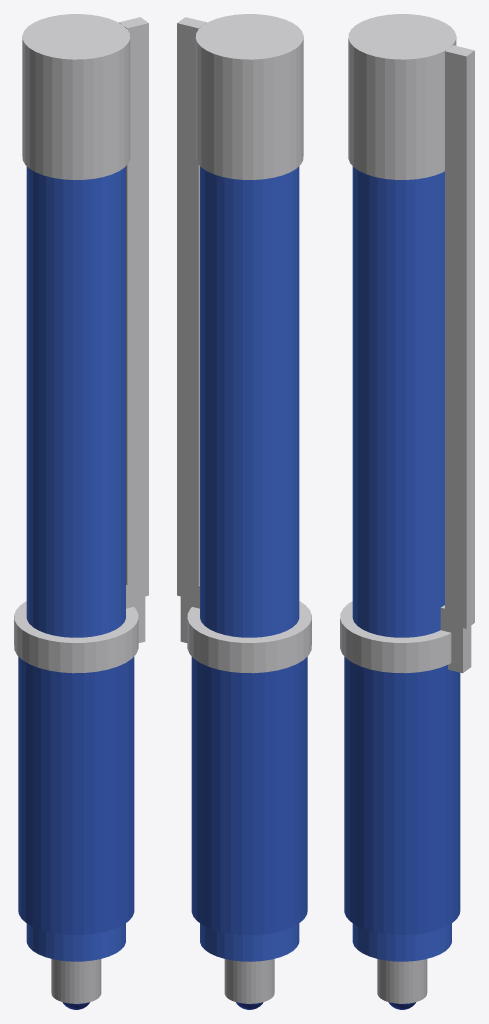
File: Pen_blue.glb
The picture shows the model from 3 angles, left to right: view 1: azimuth 30°, elevation 25°; view 2: azimuth 150°, elevation 25°; view 3: azimuth 330°, elevation 25°; orthographic projection.
Visible parts, largest first — view 1: PenBody, PenGrip, PenKnock, PenClip, PenRing, PenTip, PenClipTip; view 2: PenBody, PenGrip, PenKnock, PenClip, PenRing, PenTip, PenClipTip; view 3: PenBody, PenGrip, PenClip, PenKnock, PenRing, PenTip, PenClipTip.
Part boxes in pixels (x1=…): PenBody: x1=26, y1=166, x2=125, y2=961; PenGrip: x1=18, y1=656, x2=134, y2=934; PenKnock: x1=22, y1=14, x2=130, y2=179; PenClip: x1=119, y1=17, x2=148, y2=596; PenRing: x1=14, y1=601, x2=138, y2=673; PenTip: x1=51, y1=959, x2=101, y2=1003; PenClipTip: x1=126, y1=581, x2=145, y2=642; PenBody: x1=200, y1=166, x2=299, y2=961; PenGrip: x1=191, y1=656, x2=307, y2=934; PenKnock: x1=195, y1=14, x2=303, y2=179; PenClip: x1=177, y1=17, x2=206, y2=596; PenRing: x1=187, y1=601, x2=311, y2=673; PenTip: x1=224, y1=959, x2=274, y2=1003; PenClipTip: x1=180, y1=581, x2=199, y2=642; PenBody: x1=352, y1=166, x2=451, y2=961; PenGrip: x1=344, y1=656, x2=460, y2=934; PenClip: x1=445, y1=45, x2=474, y2=628; PenKnock: x1=348, y1=14, x2=456, y2=179; PenRing: x1=340, y1=601, x2=451, y2=673; PenTip: x1=377, y1=959, x2=427, y2=1003; PenClipTip: x1=440, y1=605, x2=471, y2=673.
Bounding box in the file's own units: 0.017 × 0.129 × 0.015.
